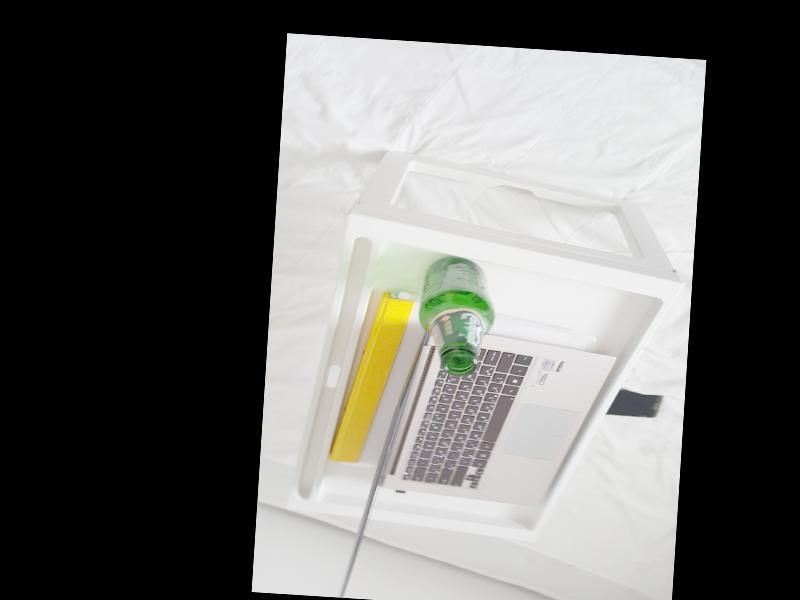Beer: (415, 254, 496, 377)
